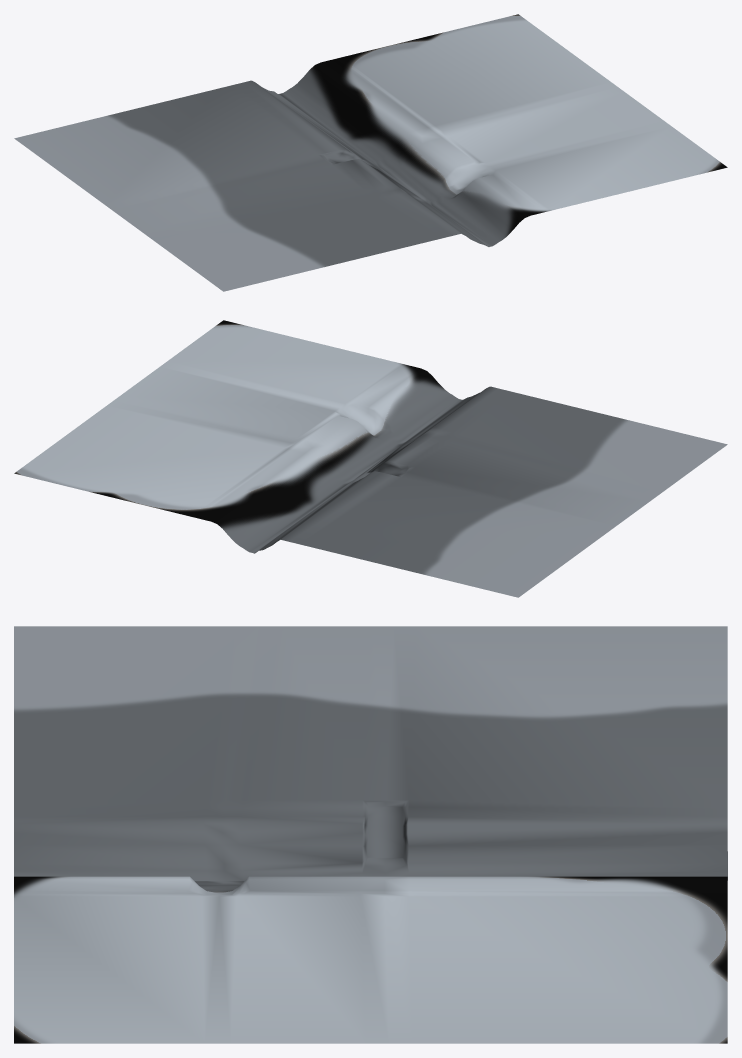
Rendered from MapaAindaTomundando.fbx.
The picture shows the model from 3 angles, top to bottom: view 1: azimuth 30°, elevation 25°; view 2: azimuth 150°, elevation 25°; view 3: azimuth 270°, elevation 25°; orthographic projection. The views are drawn at different scales.
Parts seen in each view (by area): view 1: Mapa terreno.002; view 2: Mapa terreno.002; view 3: Mapa terreno.002.
Boxes of the visible parts, left/top/right/bottom form: Mapa terreno.002: left=14, top=14, right=727, bottom=291; Mapa terreno.002: left=14, top=320, right=727, bottom=597; Mapa terreno.002: left=14, top=626, right=727, bottom=1043.
Size of the model in its own units: 18815 by 761 by 13539.
1 material, 1 textured.
